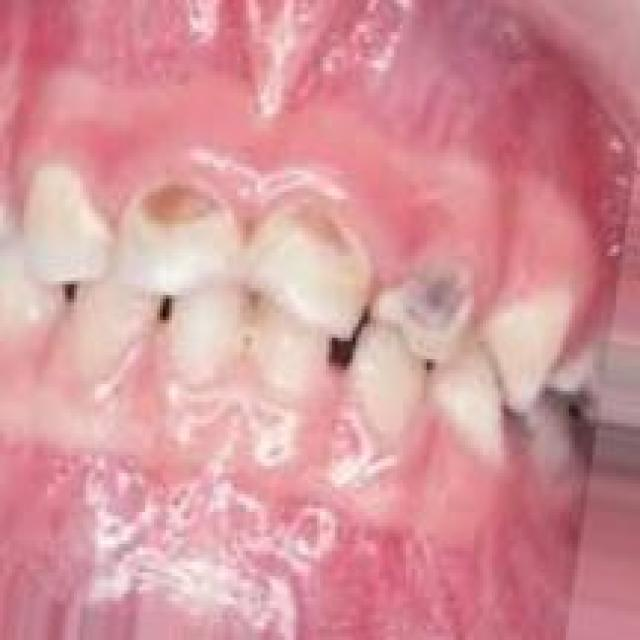caries: (380, 256, 478, 361), (267, 188, 369, 282), (122, 162, 225, 240)
